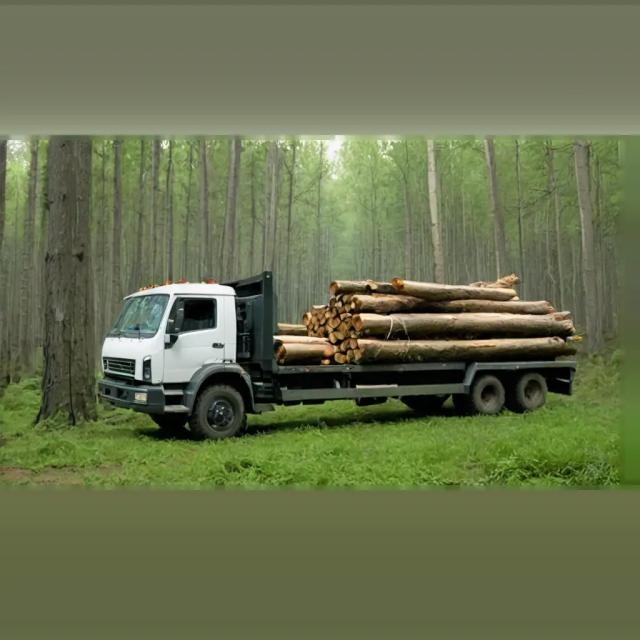Truck: (82, 254, 580, 438)
